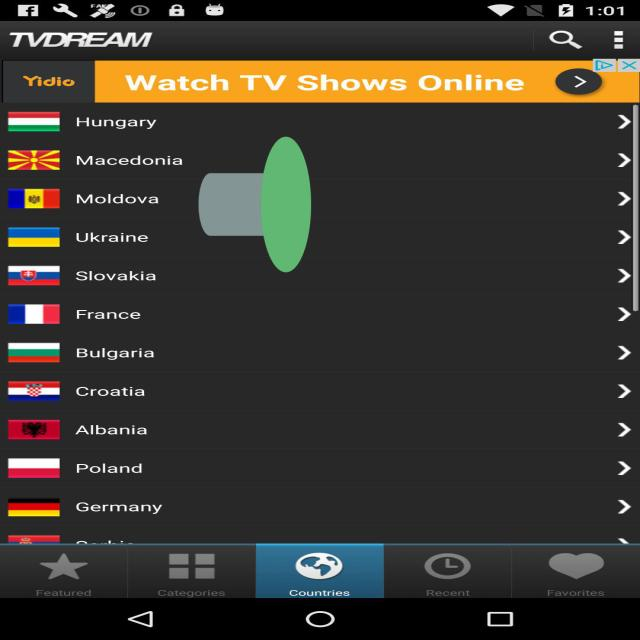social proof: (199, 53, 311, 356)
